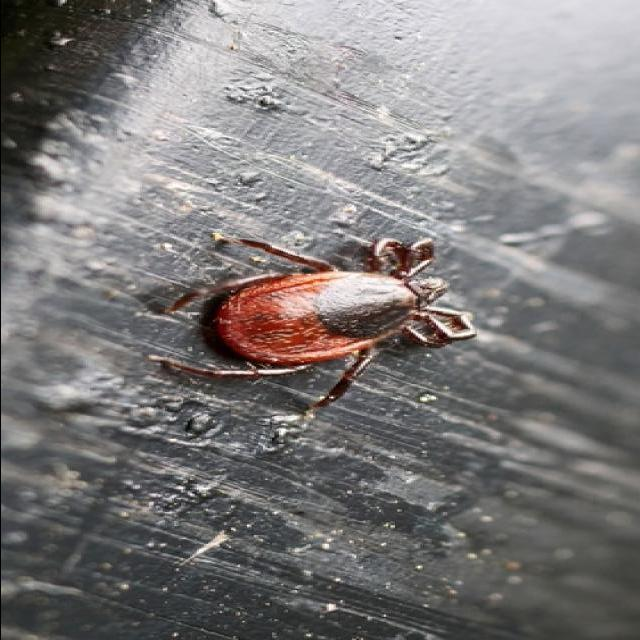Ixodes Ricinus-F: (143, 232, 474, 419)
